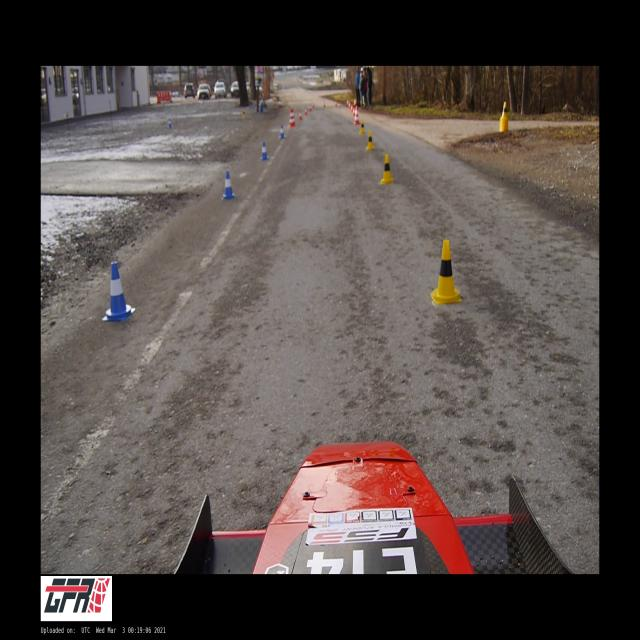blue_cone: (102, 261, 135, 321), (221, 171, 236, 200), (259, 141, 269, 160), (278, 124, 285, 140), (168, 118, 171, 127)
large_orange_cone: (288, 109, 296, 127), (354, 105, 359, 125)
orange_cone: (298, 110, 302, 120), (304, 106, 308, 115), (308, 104, 313, 111), (322, 100, 326, 107), (335, 99, 338, 107), (353, 106, 355, 117)
yellow_cone: (430, 239, 462, 306), (380, 154, 394, 185), (366, 131, 375, 151), (500, 100, 508, 116), (360, 120, 366, 134), (242, 109, 248, 119)
